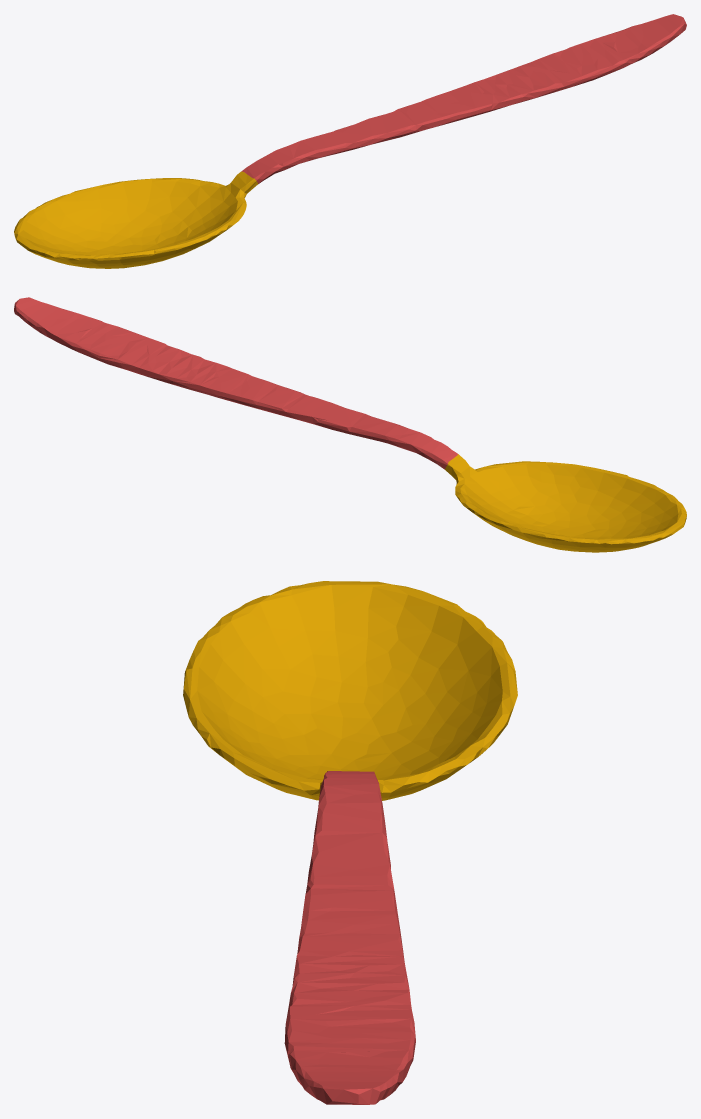
Rendered from mode_1_2pcs.glb.
3 renders of one model, top to bottom at view 1: azimuth 30°, elevation 25°; view 2: azimuth 150°, elevation 25°; view 3: azimuth 270°, elevation 25°, orthographic. The views are drawn at different scales.
Visible parts, largest first — view 1: piece_0.obj, piece_1.obj; view 2: piece_0.obj, piece_1.obj; view 3: piece_0.obj, piece_1.obj.
Part boxes in pixels (x1,y1,x2,y2): piece_0.obj: [14, 171, 257, 268]; piece_1.obj: [241, 14, 686, 183]; piece_0.obj: [445, 454, 686, 552]; piece_1.obj: [14, 297, 457, 469]; piece_0.obj: [183, 581, 517, 800]; piece_1.obj: [284, 771, 415, 1104].
Bounding box in the file's own units: 1 × 0.152 × 0.2193.
